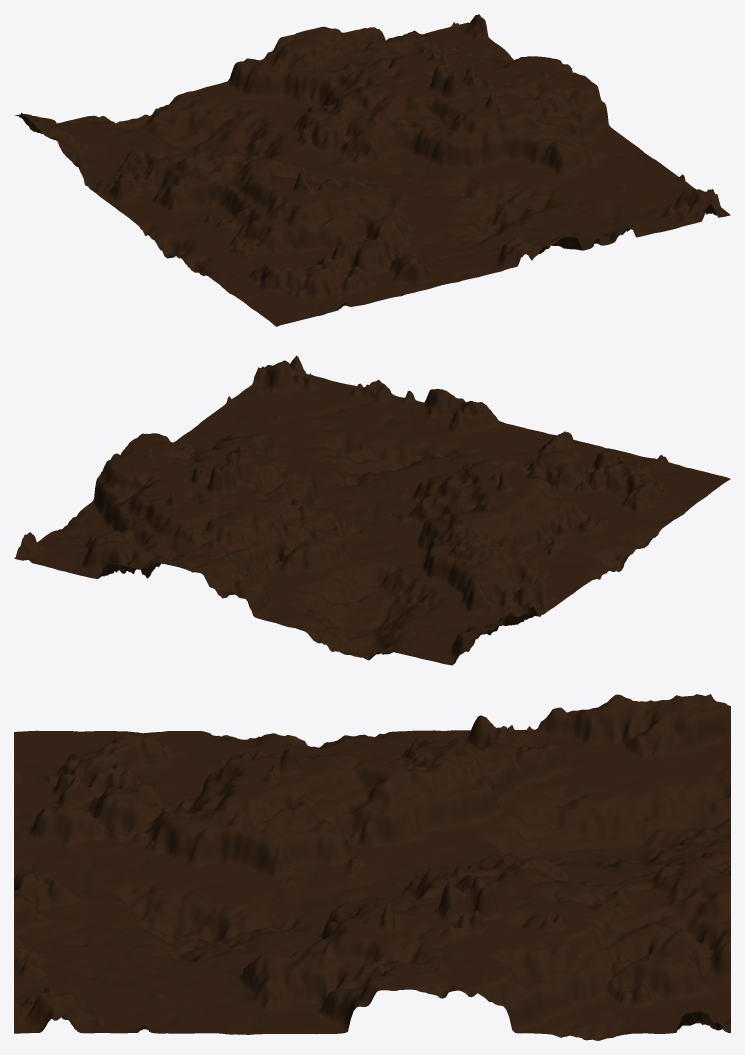
Rendered from 2x2.3_cubes_500m_007.glb.
3 views of the same model, one above another, from view 1: azimuth 30°, elevation 25°; view 2: azimuth 150°, elevation 25°; view 3: azimuth 270°, elevation 25° (orthographic). The views are drawn at different scales.
Parts seen in each view (by area): view 1: Cube; view 2: Cube; view 3: Cube.
Part boxes in pixels (bbox=[...]): Cube: bbox=[14, 14, 730, 326]; Cube: bbox=[14, 355, 730, 665]; Cube: bbox=[14, 694, 730, 1040].
Bounding box in the file's own units: 500 × 81.19 × 500.
